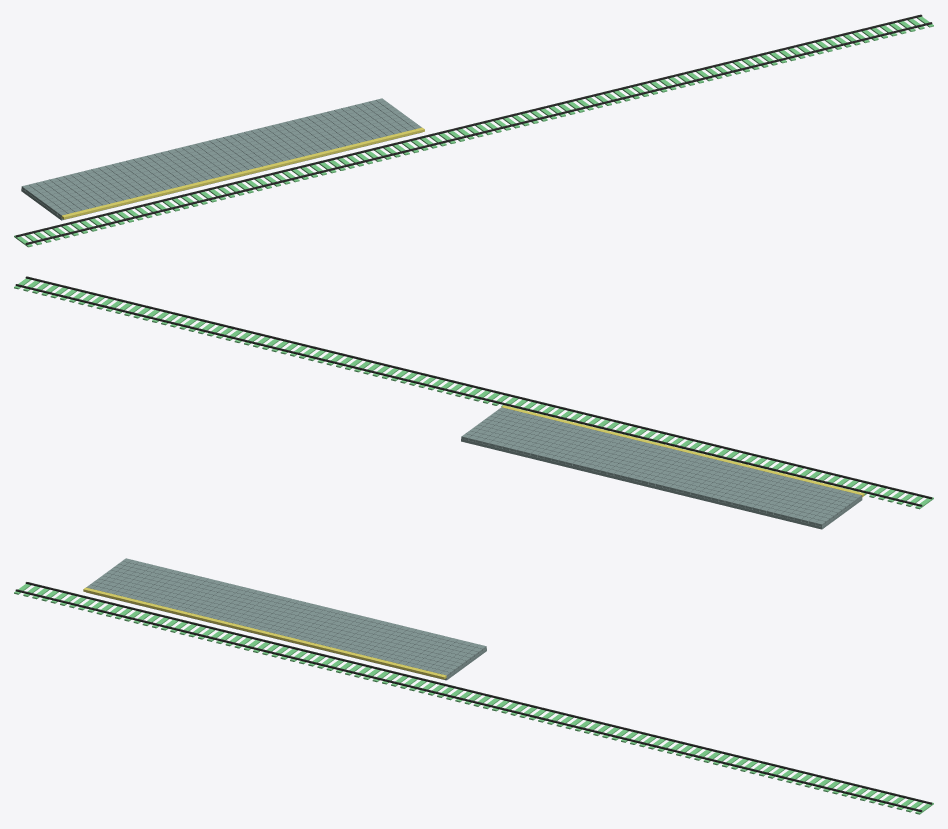
The model's file is TrainTracks.fbx.
3 views of the same model, one above another, from view 1: azimuth 30°, elevation 25°; view 2: azimuth 150°, elevation 25°; view 3: azimuth 330°, elevation 25° (orthographic).
Parts seen in each view (by area): view 1: stationsquare, Rail.001, Rail; view 2: stationsquare, Rail.001, Rail; view 3: stationsquare, Rail.001, Rail.
Part boxes in pixels (x1,y1,x2,y2): stationsquare: [21, 98, 424, 220]; Rail.001: [466, 14, 933, 137]; Rail: [14, 124, 483, 247]; stationsquare: [461, 405, 864, 529]; Rail.001: [14, 276, 481, 399]; Rail: [465, 387, 933, 509]; stationsquare: [83, 558, 486, 680]; Rail.001: [465, 692, 933, 814]; Rail: [14, 582, 481, 704].
Size of the model in its own units: 10341 by 54.89 by 1175.
